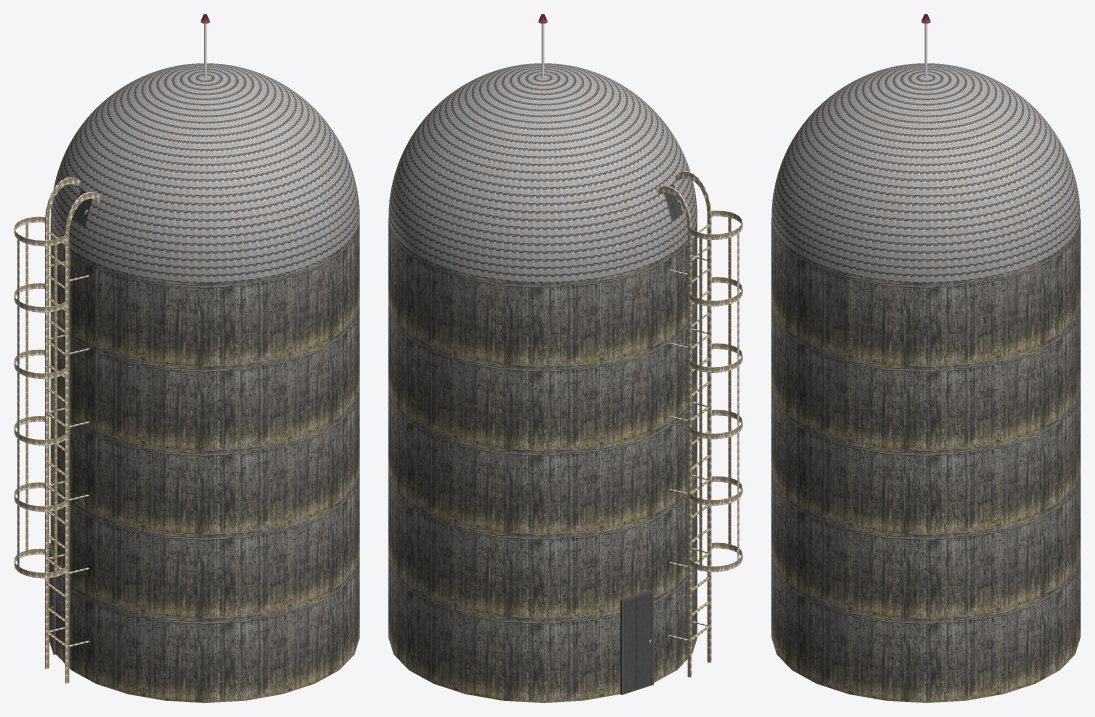
3 renders of one model, left to right at view 1: azimuth 30°, elevation 25°; view 2: azimuth 150°, elevation 25°; view 3: azimuth 270°, elevation 25°, orthographic.
Parts seen in each view (by area): view 1: mesh143_mesh143-geometry, mesh3_mesh3-geometry, mesh7_mesh7-geometry, mesh9_mesh9-geometry; view 2: mesh143_mesh143-geometry, mesh3_mesh3-geometry, mesh7_mesh7-geometry, mesh9_mesh9-geometry; view 3: mesh143_mesh143-geometry, mesh3_mesh3-geometry.
Part boxes in pixels (bbox=[...]): mesh143_mesh143-geometry: bbox=[49, 218, 359, 702]; mesh3_mesh3-geometry: bbox=[51, 63, 359, 282]; mesh7_mesh7-geometry: bbox=[14, 216, 67, 578]; mesh9_mesh9-geometry: bbox=[45, 177, 101, 683]; mesh143_mesh143-geometry: bbox=[388, 218, 697, 702]; mesh3_mesh3-geometry: bbox=[388, 63, 697, 282]; mesh7_mesh7-geometry: bbox=[688, 210, 742, 572]; mesh9_mesh9-geometry: bbox=[656, 171, 711, 677]; mesh143_mesh143-geometry: bbox=[771, 218, 1080, 702]; mesh3_mesh3-geometry: bbox=[771, 63, 1080, 282].
Bounding box in the file's own units: 0.4458 × 0.8164 × 0.3671.
